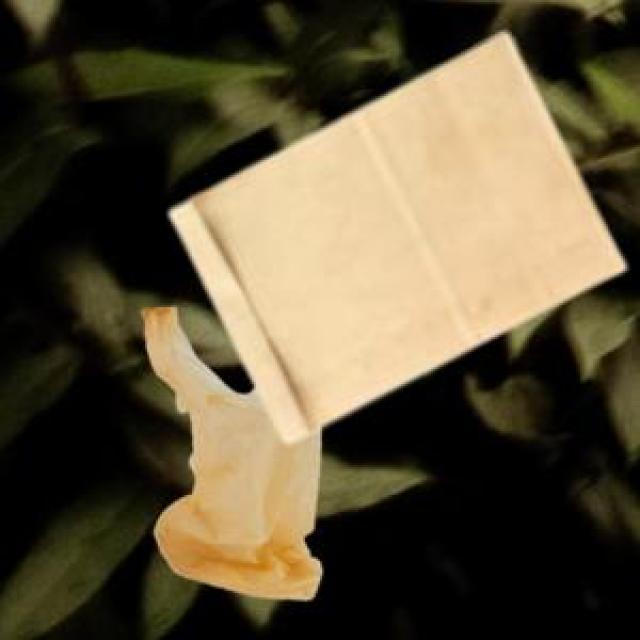paper: (166, 30, 621, 437)
